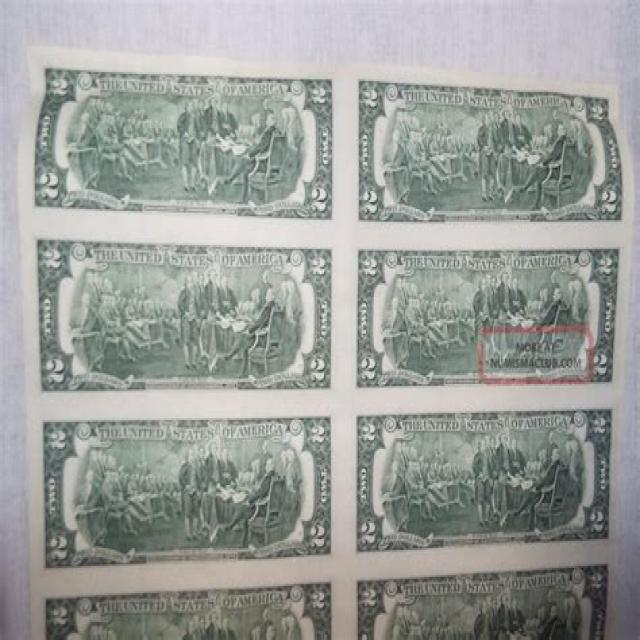Two: (25, 50, 348, 233), (24, 225, 348, 403), (29, 397, 344, 572), (344, 396, 624, 572), (346, 230, 632, 402), (348, 70, 632, 234)
